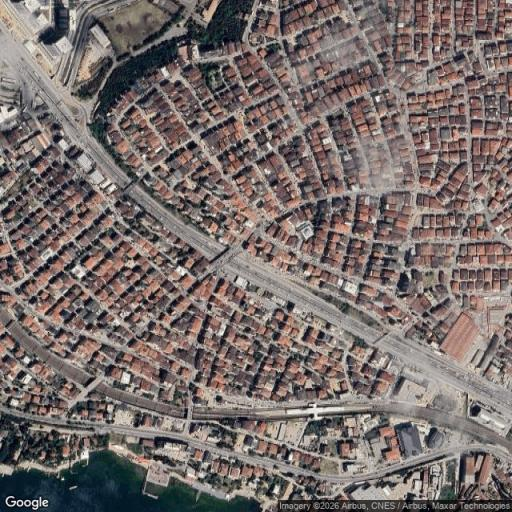ship: (68, 486, 80, 490)
